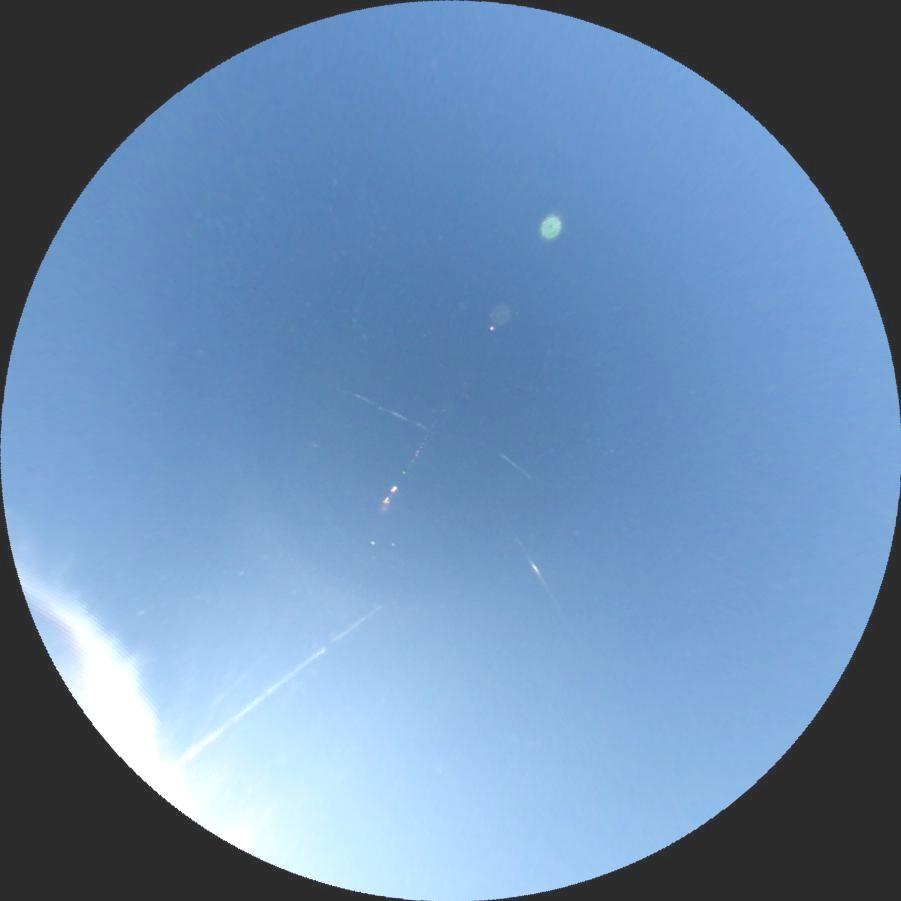parasite: (174, 603, 381, 767), (509, 531, 561, 609), (352, 389, 432, 433), (206, 661, 259, 713), (497, 451, 536, 482)
